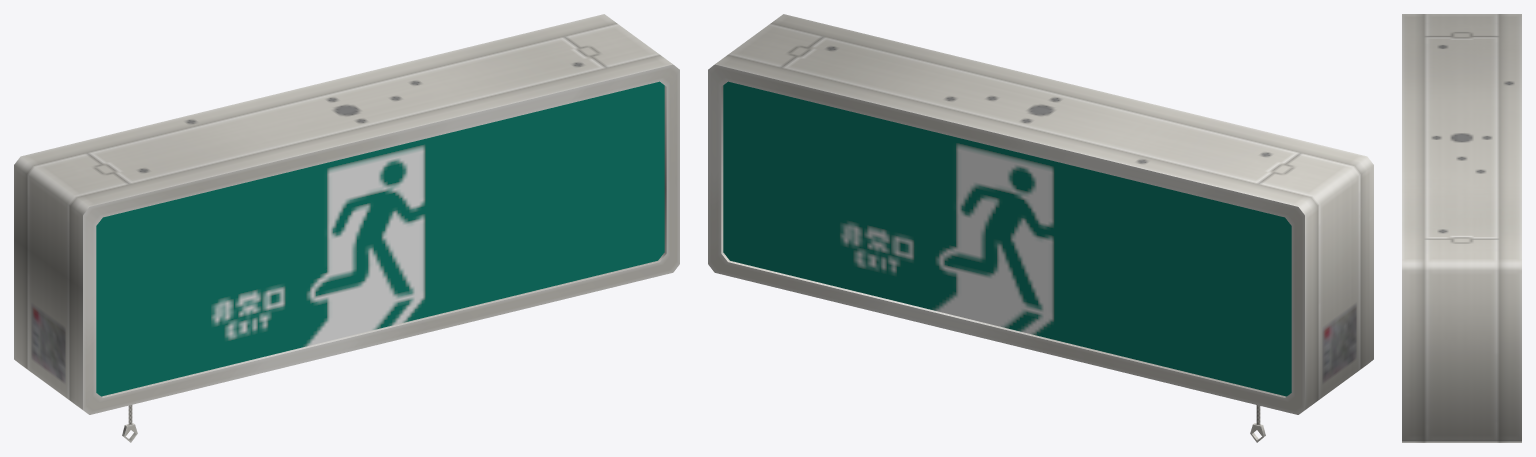
The model's file is SHW_Exitlight_01_07.fbx.
3 views of the same model, side by side, from view 1: azimuth 30°, elevation 25°; view 2: azimuth 150°, elevation 25°; view 3: azimuth 270°, elevation 25° (orthographic). The views are drawn at different scales.
Visible parts, largest first — view 1: shw_exitlight_01_07; view 2: shw_exitlight_01_07; view 3: shw_exitlight_01_07.
Part boxes in pixels (left/top/right/bottom): shw_exitlight_01_07: left=14, top=14, right=679, bottom=442; shw_exitlight_01_07: left=708, top=14, right=1373, bottom=442; shw_exitlight_01_07: left=1402, top=14, right=1521, bottom=442.
Bounding box in the file's own units: 90 × 40.17 × 18.
